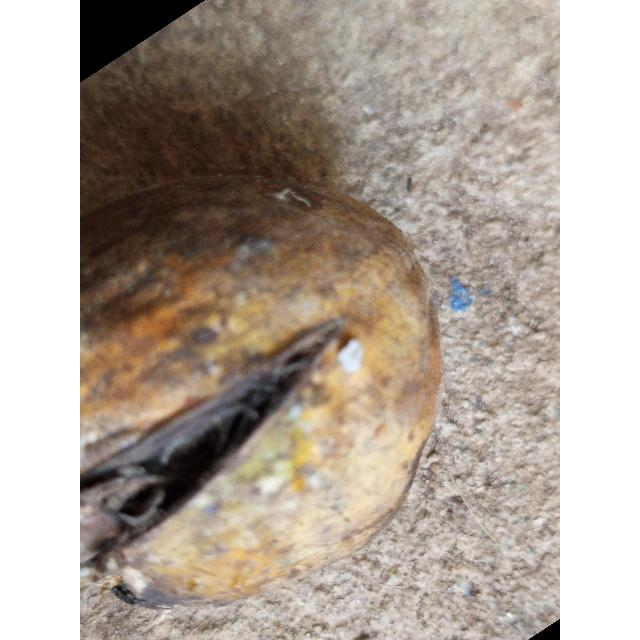damaged: (80, 175, 440, 605)
